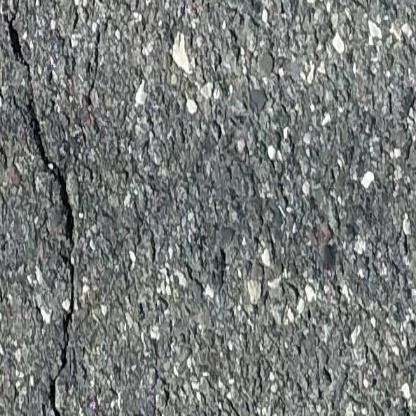Cracks: (6, 24, 80, 416), (0, 262, 6, 416)
